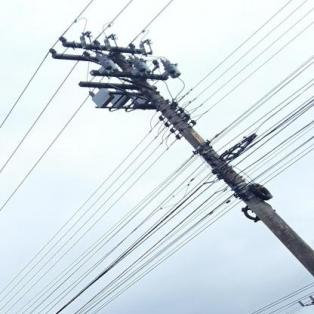Poste: (96, 42, 314, 280)
